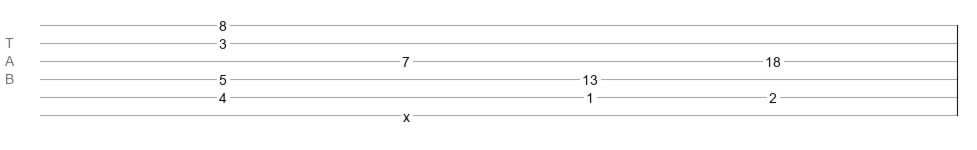1: (586, 90, 594, 100)
13: (582, 72, 598, 82)
18: (765, 54, 781, 64)
2: (769, 90, 777, 100)
3: (219, 36, 227, 46)
4: (219, 90, 227, 100)
5: (219, 72, 227, 82)
7: (402, 54, 410, 64)
8: (219, 18, 227, 28)
x: (403, 109, 410, 117)
